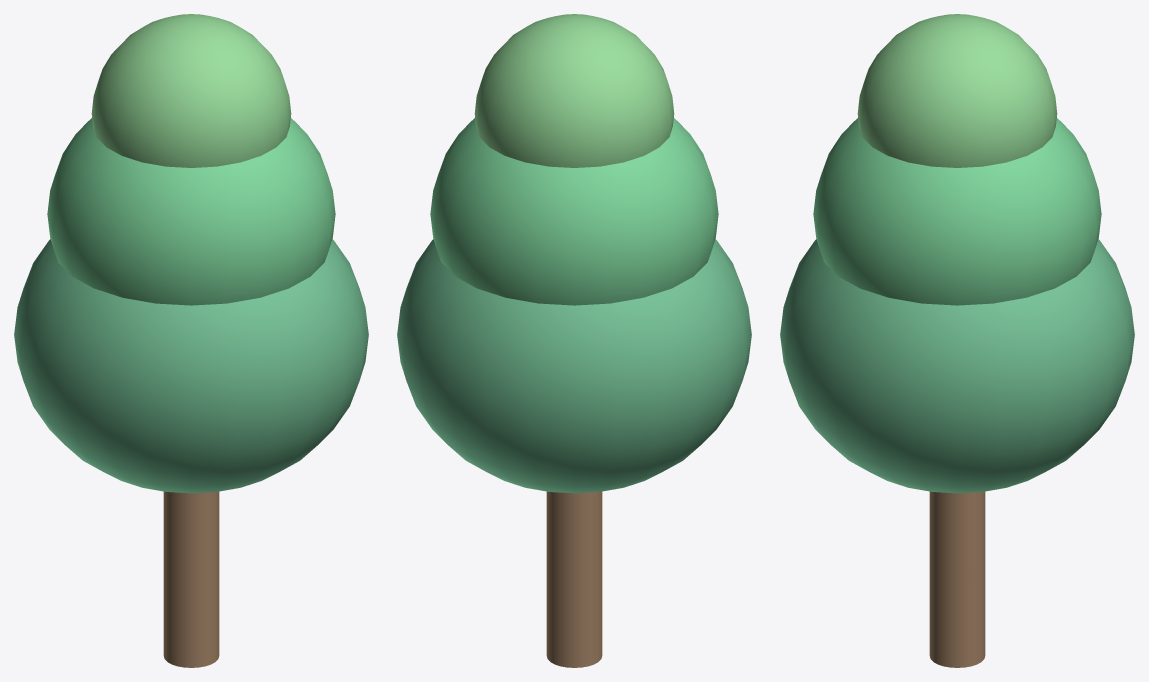
Rendered from tree.glb.
The picture shows the model from 3 angles, left to right: view 1: azimuth 30°, elevation 25°; view 2: azimuth 150°, elevation 25°; view 3: azimuth 270°, elevation 25°; orthographic projection.
Visible parts, largest first — view 1: canopy_lower, canopy_mid, canopy_top, trunk; view 2: canopy_lower, canopy_mid, canopy_top, trunk; view 3: canopy_lower, canopy_mid, canopy_top, trunk.
Boxes of the visible parts, x1,y1,x2,y2 form: canopy_lower: (14, 239, 368, 493); canopy_mid: (47, 118, 335, 305); canopy_top: (91, 14, 291, 167); trunk: (163, 491, 219, 667); canopy_lower: (397, 239, 751, 493); canopy_mid: (430, 118, 718, 305); canopy_top: (474, 14, 674, 167); trunk: (546, 491, 602, 667); canopy_lower: (780, 239, 1134, 493); canopy_mid: (813, 118, 1101, 305); canopy_top: (857, 14, 1057, 167); trunk: (929, 491, 985, 667).
Size of the model in its own units: 1.6 by 3.15 by 1.6.
